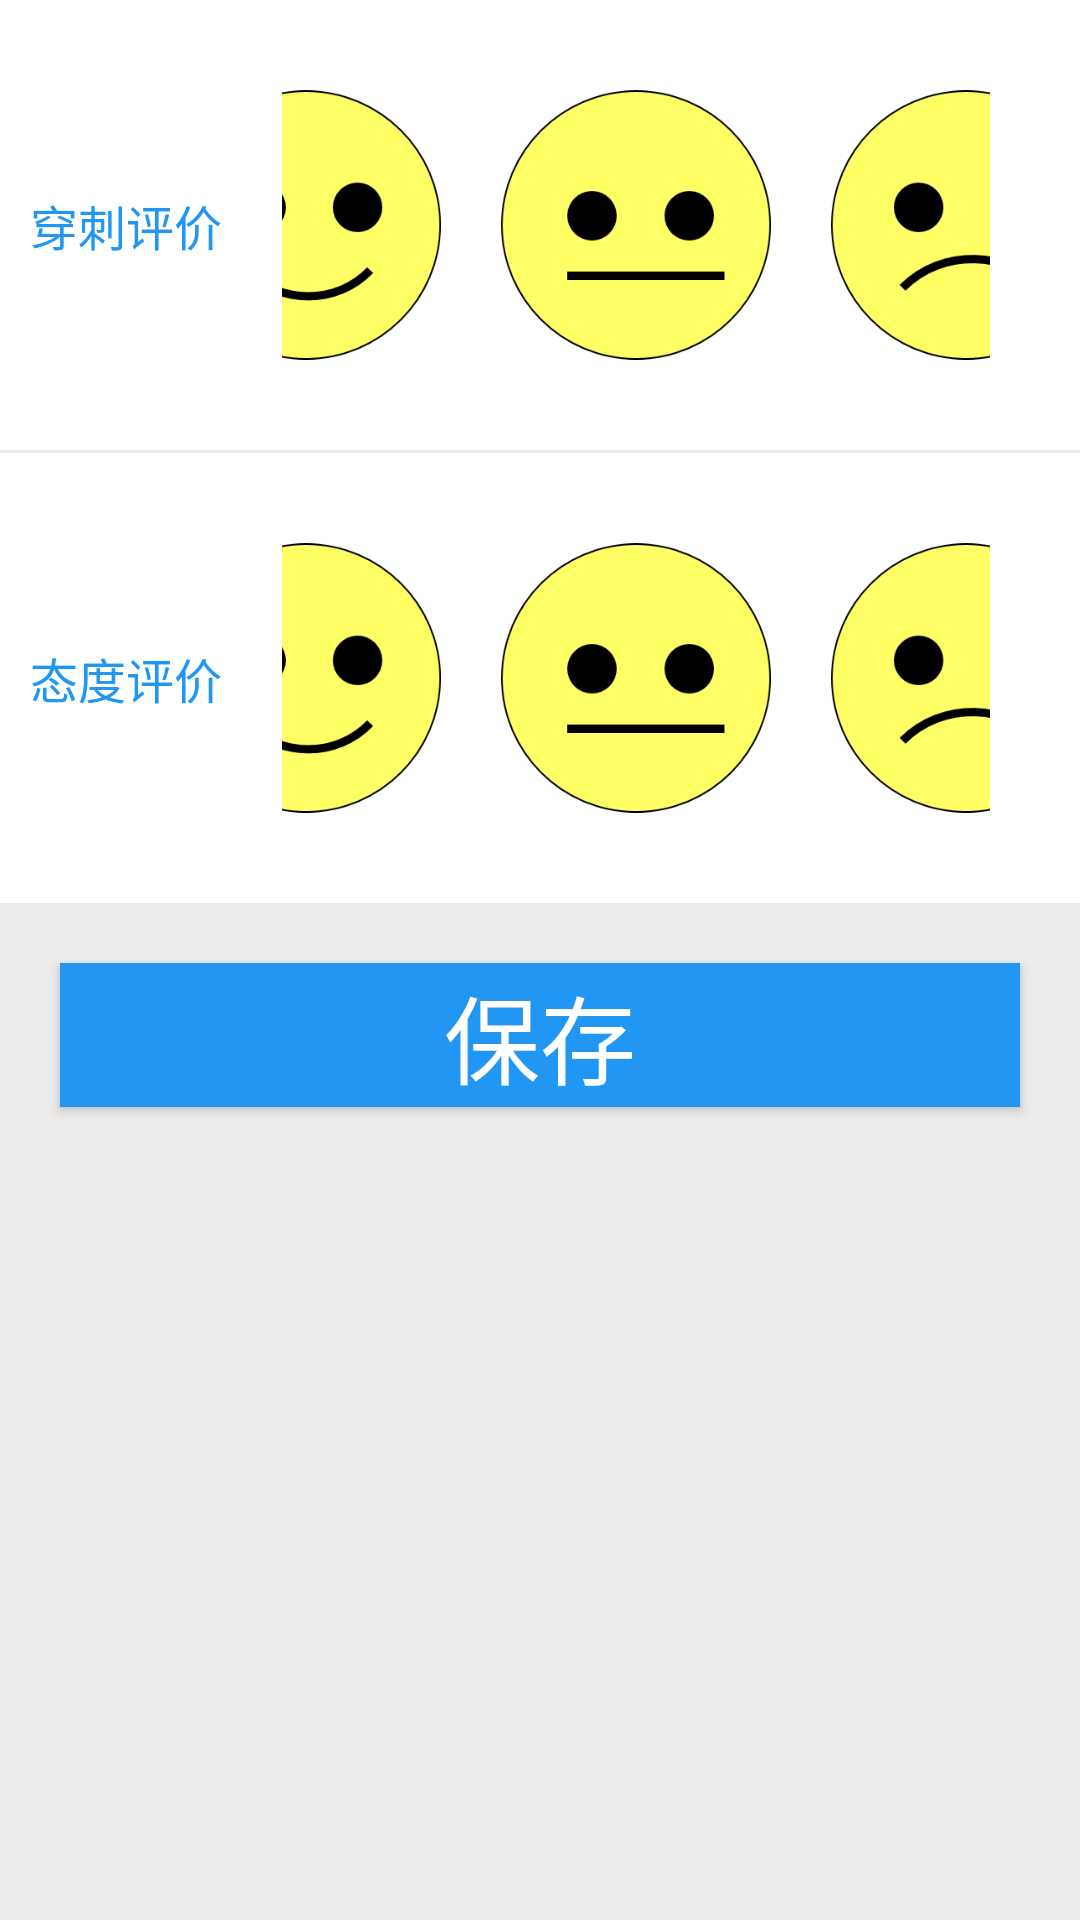

Named icons in this screenshot (1080px×1920px) and their bounding boxes, (x1, y1, x2, y2):
soso: (501, 90, 771, 360), (501, 543, 771, 813)
